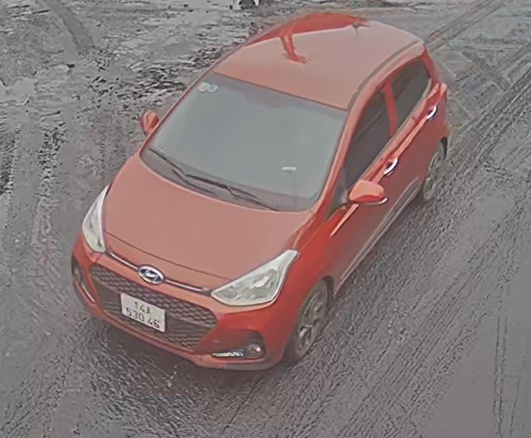vehicle plate: (113, 291, 167, 331)
